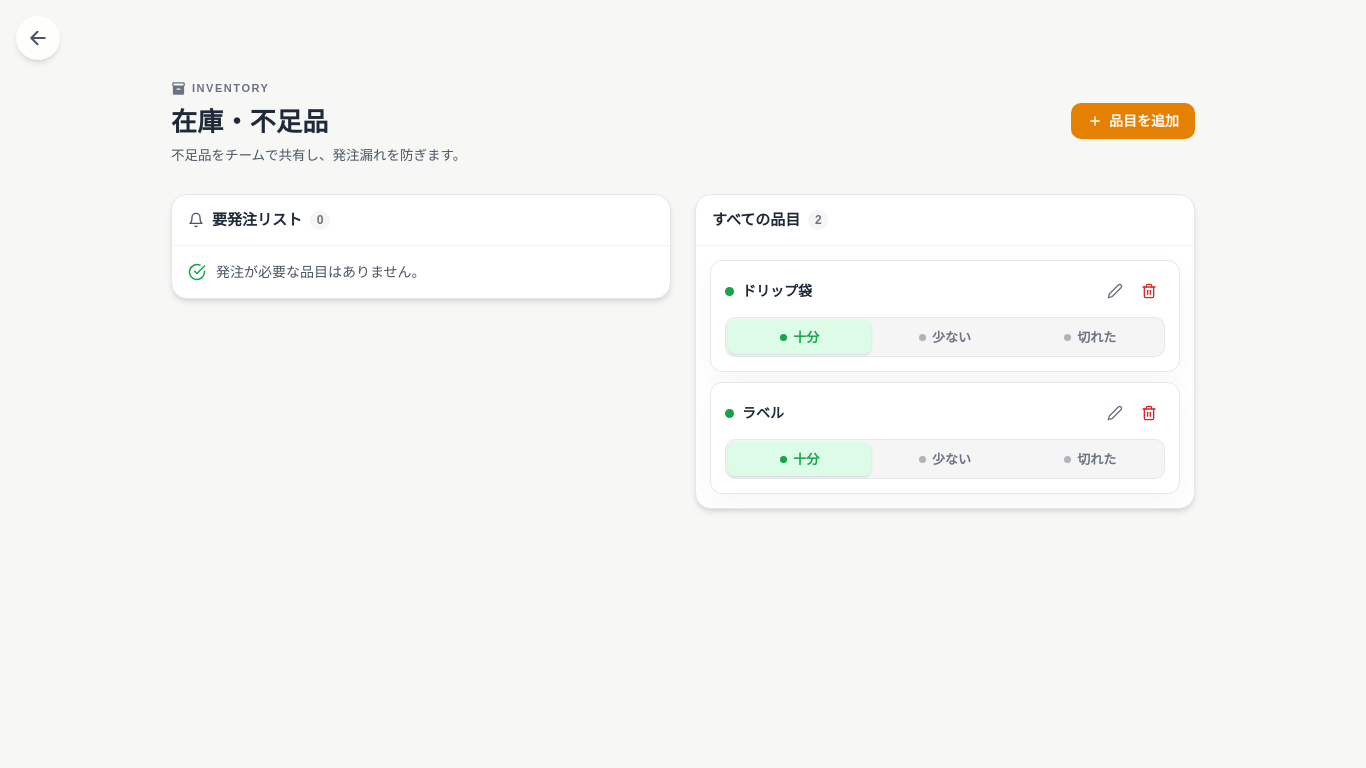
Scenario: InventoryPage › (A) 別品目の編集に切り替えるとモーダルの値が入れ替わる
The image size is (1366, 768).
Note: 1件目「ドリップ袋」の編集ボタンを押す（編集はアイコンボタンで aria-label に品目名を含む）
Click the button named "ドリップ袋を編集" at coordinates (1115, 291), box [1099,275,1131,307]
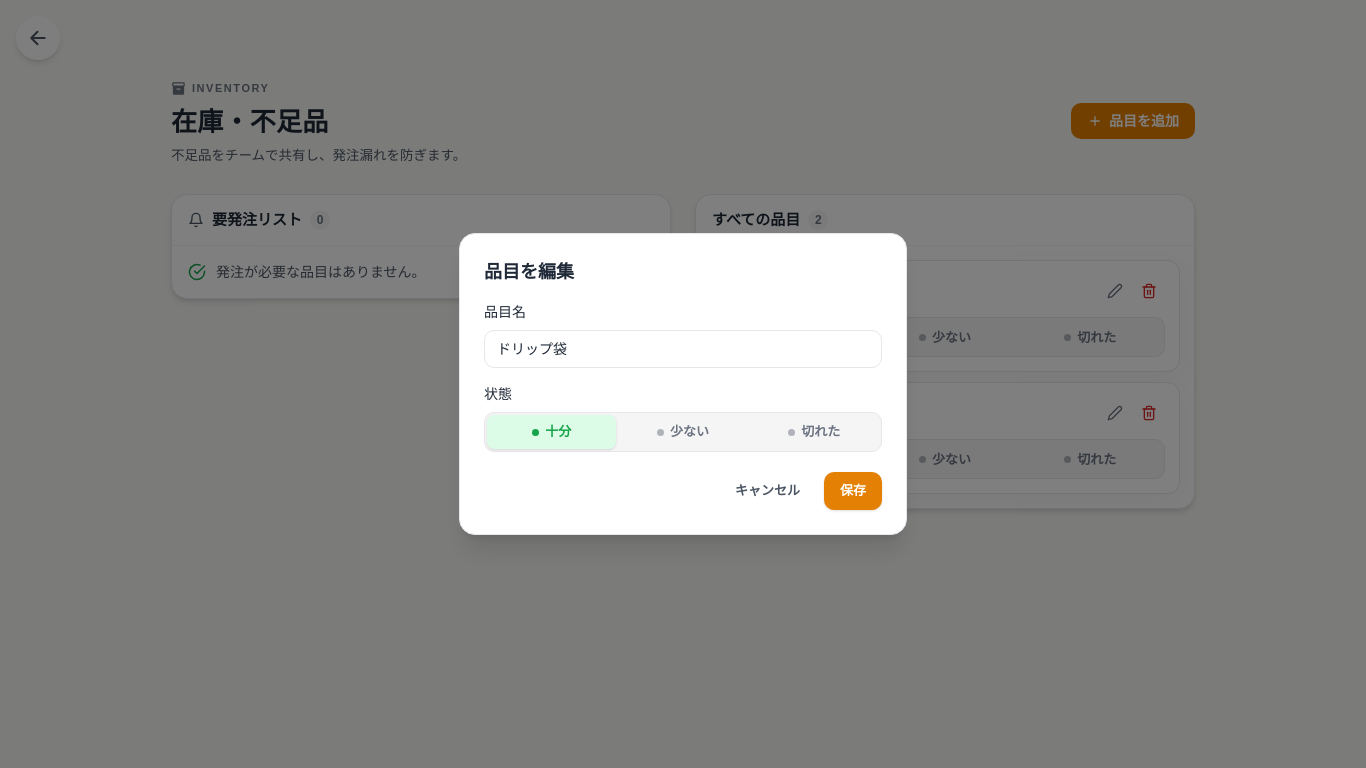
Now the field labelled "品目名" holds "ドリップ袋", box [484,330,882,368]
Note: モーダルを閉じてから2件目「ラベル」を編集 → 値が入れ替わる
Click the button "キャンセル" at coordinates (768, 491), box [719,472,816,510]
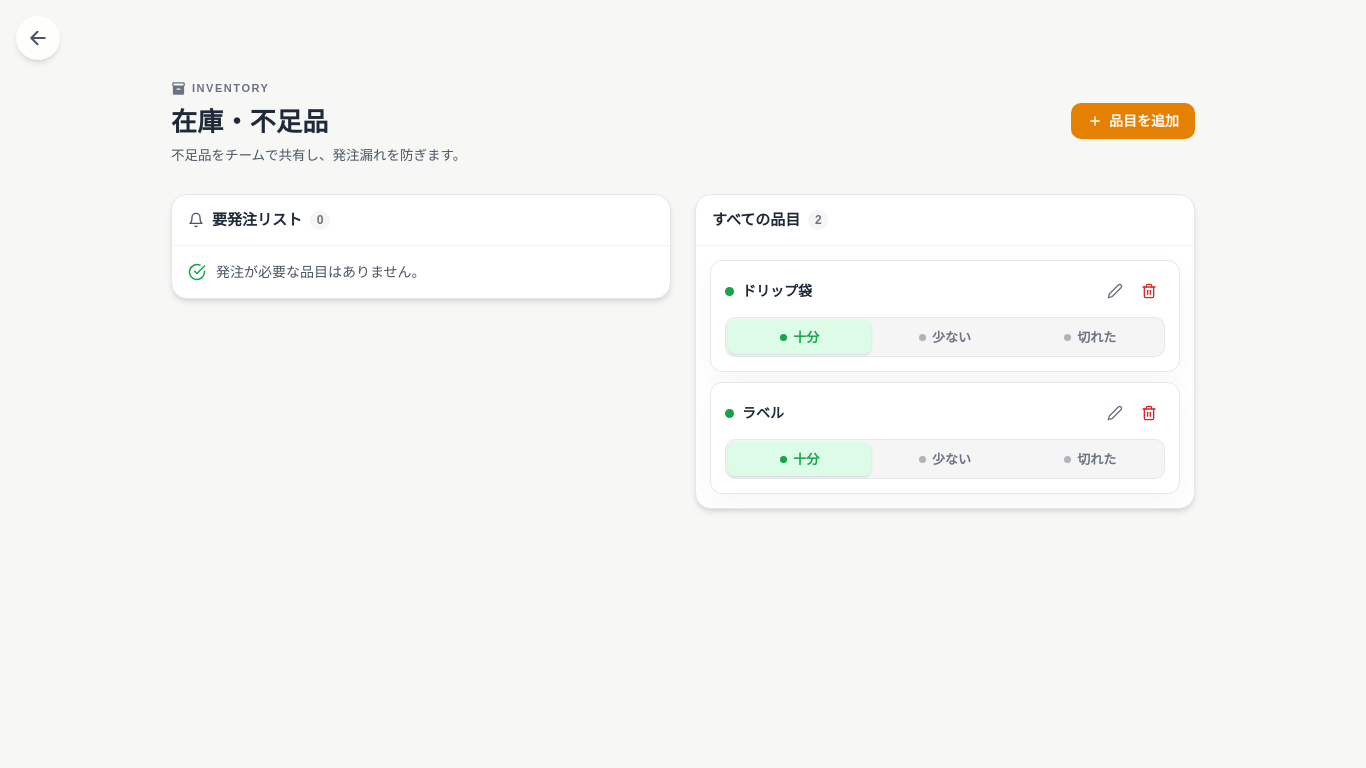
Click the button named "ラベルを編集" at coordinates (1115, 413), box [1099,397,1131,429]
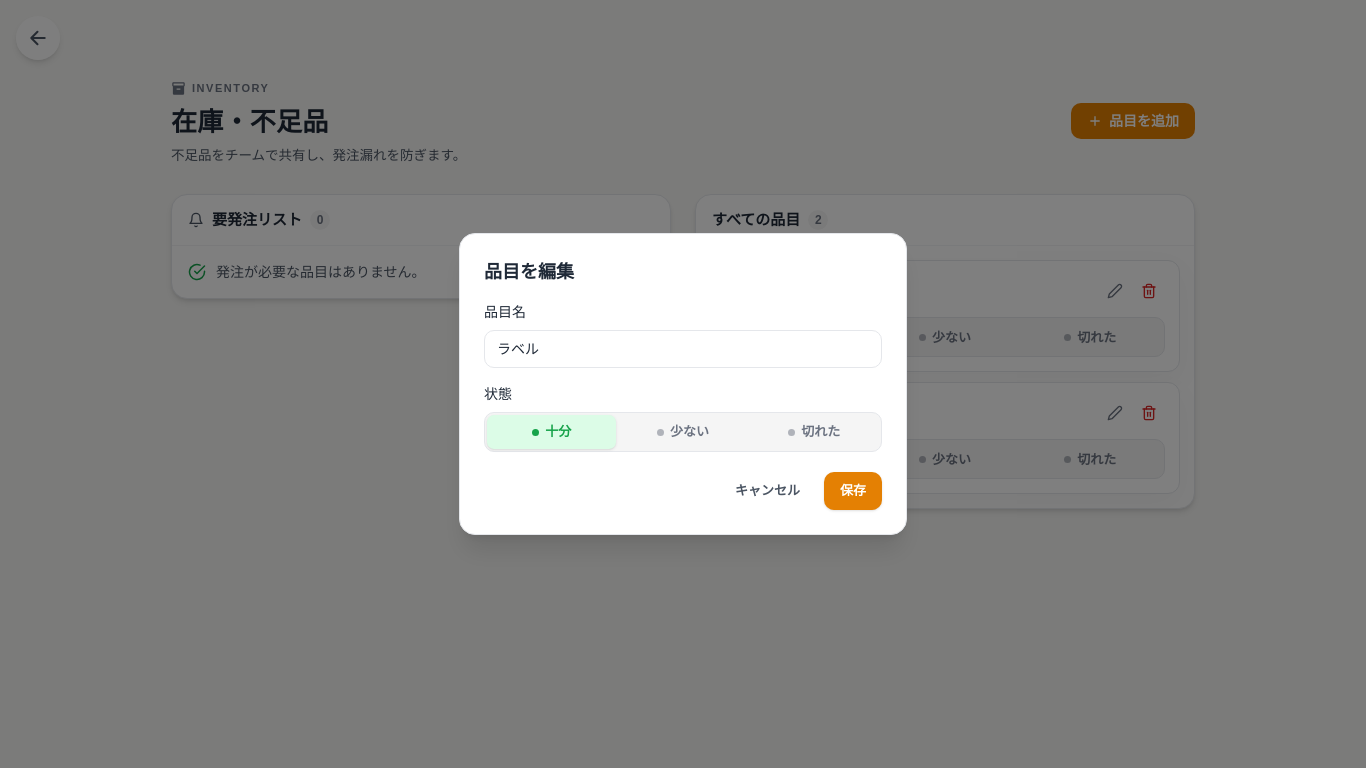
Now the field labelled "品目名" holds "ラベル", box [484,330,882,368]
